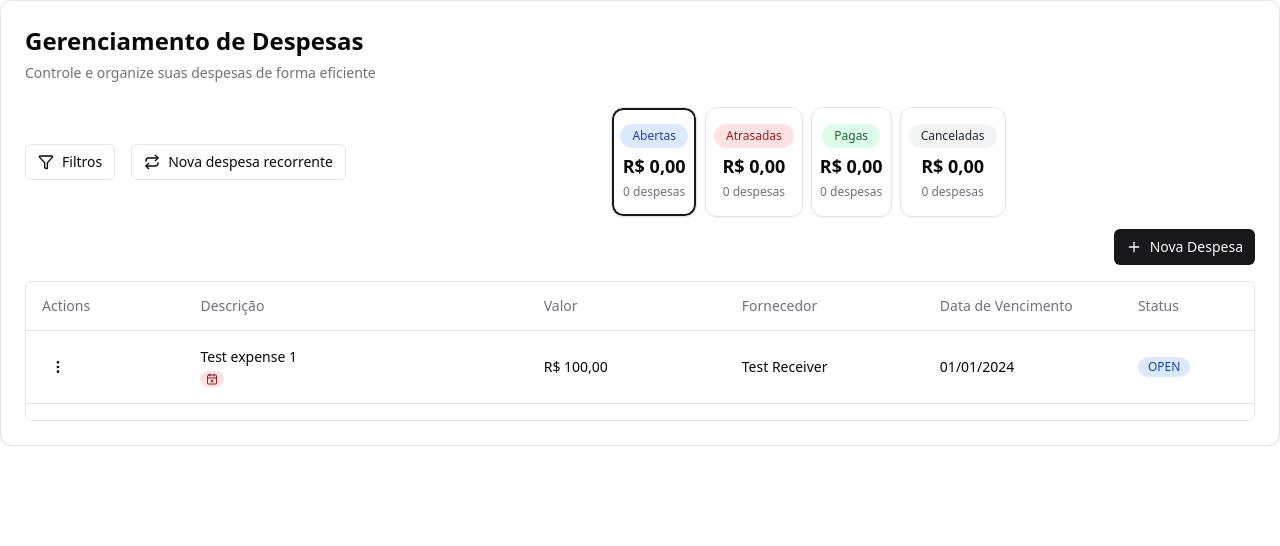
Test case: ExpensesPage Integration › calendar sync marker and menu coherence › shows the calendar failure marker AND the resync menu item together on a FAILED row
Expected: the row "Test expense 1 R$ 100,00 Test Receiver 01/01/2024 OPEN" is shown, top-left (26, 330), bottom-right (1254, 403)
Expected: the picture with test id "expense-marker-calendar" is shown, top-left (200, 370), bottom-right (224, 386)
Click the icon with test id "morevertical-icon": [58, 366] box top-left (50, 358), bottom-right (66, 374)
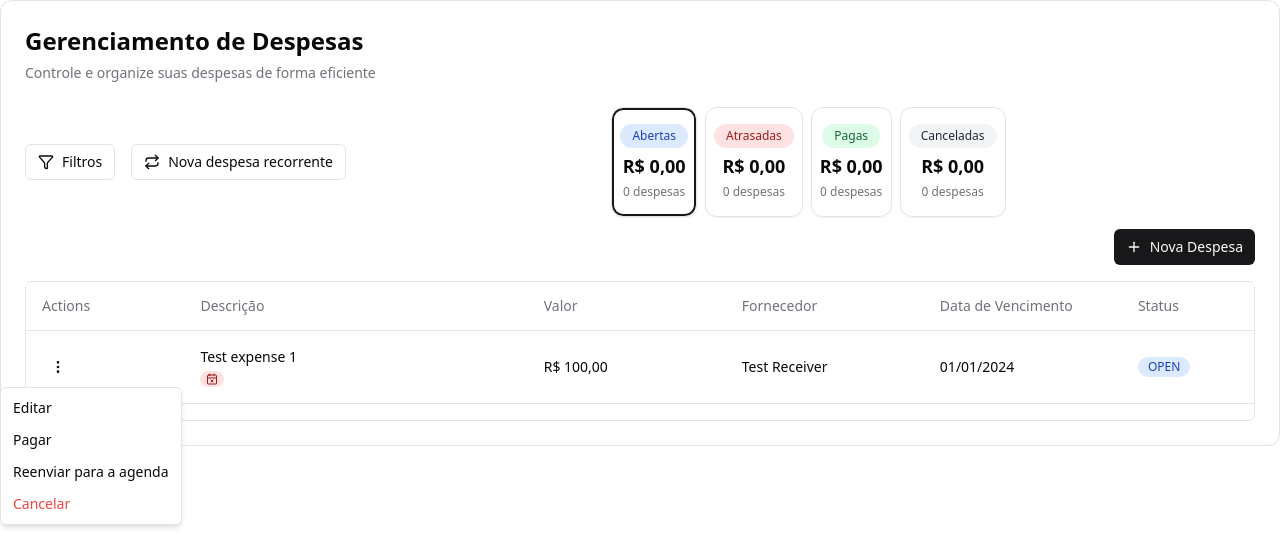
Result: the menu item "Reenviar para a agenda" is shown at top-left (13, 462), bottom-right (169, 481)
